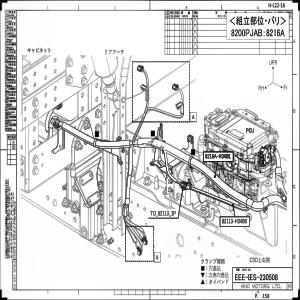PartNumber: (205, 153, 231, 160), (222, 218, 248, 225)
